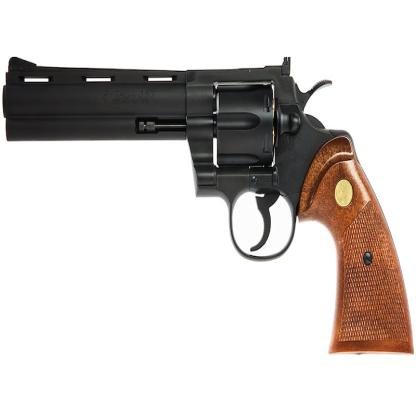handgun: (5, 52, 415, 356)
